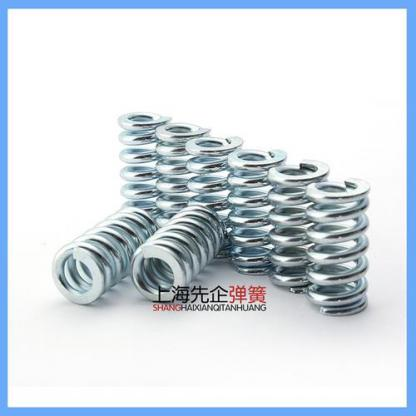FOD: (49, 207, 163, 305), (302, 175, 376, 319), (128, 202, 229, 304), (266, 158, 331, 296), (225, 143, 288, 278), (153, 117, 213, 232), (114, 109, 171, 199), (184, 132, 242, 214)
